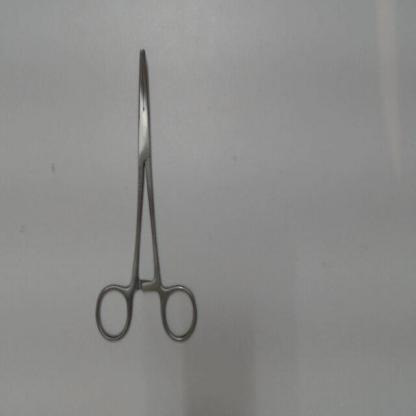Crile Artery Forceps: (87, 44, 204, 356)
